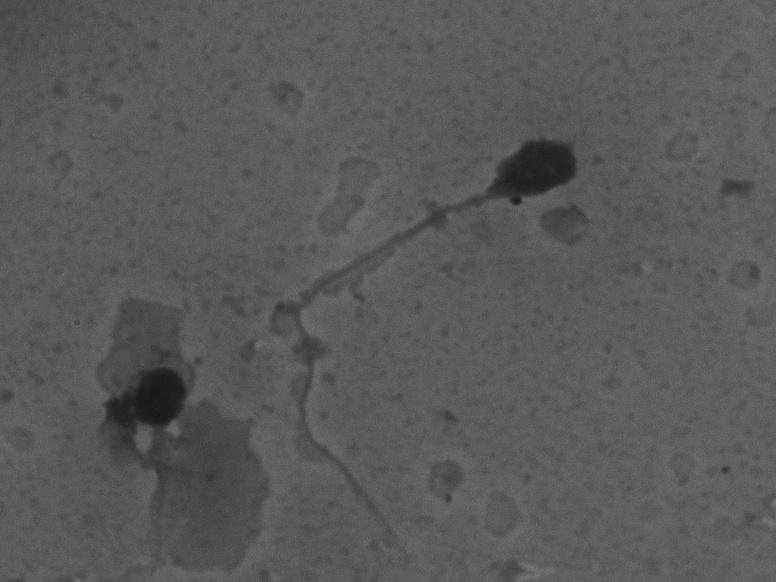Abnormal: (274, 96, 607, 555), (91, 330, 206, 555)
